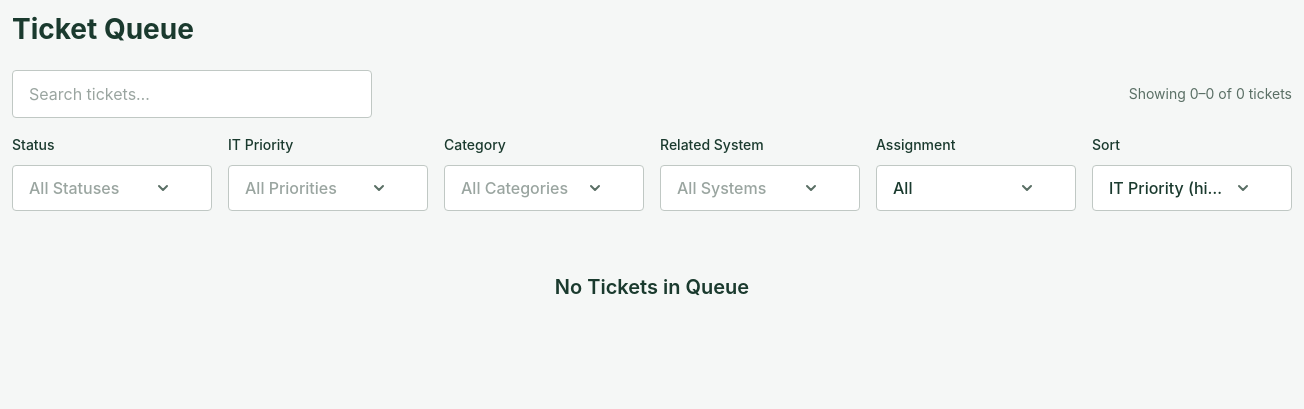
StaffTicketQueue (UI-06) › shows the no-results state with Clear Filters when nothing matches
This screenshot has width=1304, height=409.
Expected: the text "Showing 0–0 of 0 tickets" is shown, [1129,83,1292,106]
Step 1. Type "zzz-no-match" into the search field with test id "queue-search-input" → (192, 94), box [12,70,372,118]
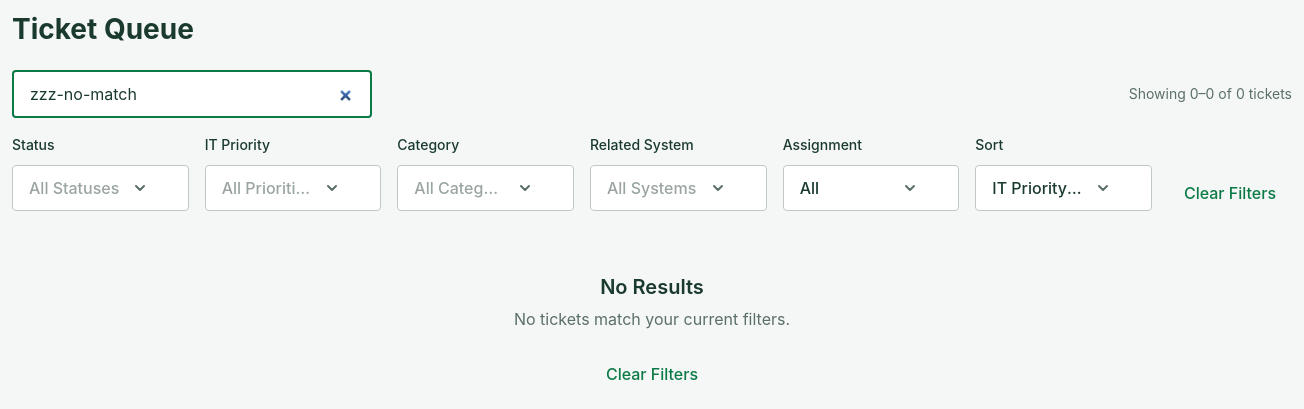
Result: the text "No tickets match your current filters." is shown at [514,309,790,329]
Result: the button with test id "queue-empty-clear-btn" is shown
Step 2. Click the button with test id "queue-empty-clear-btn" → (652, 374), box [590,356,714,392]
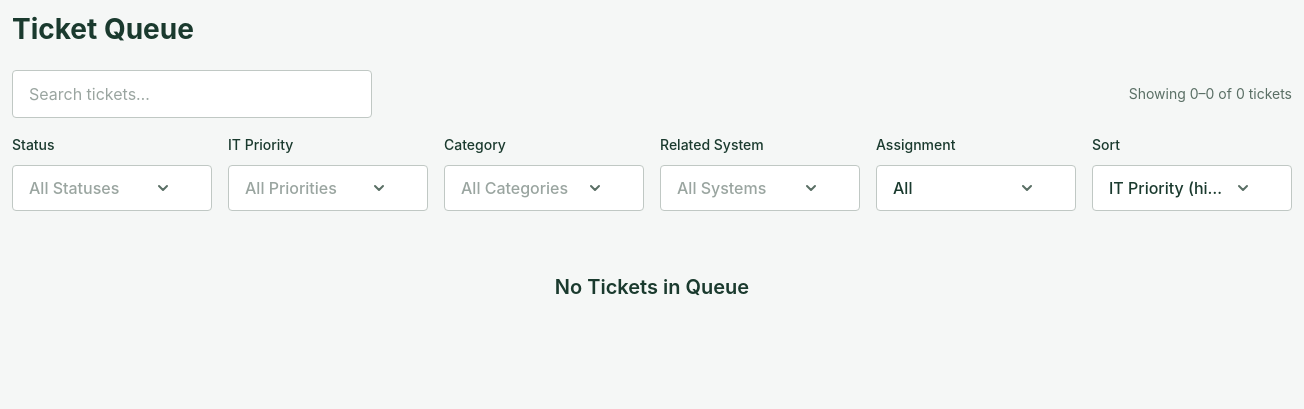
Result: the search field with test id "queue-search-input" is empty at [12,70,372,118]
